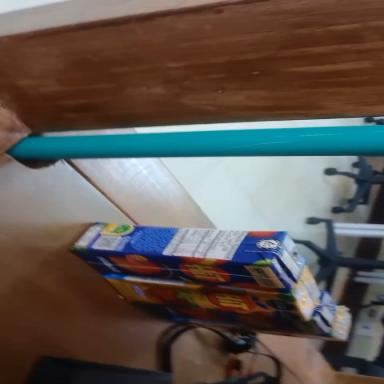HIT-MANGO: (70, 221, 306, 294)
